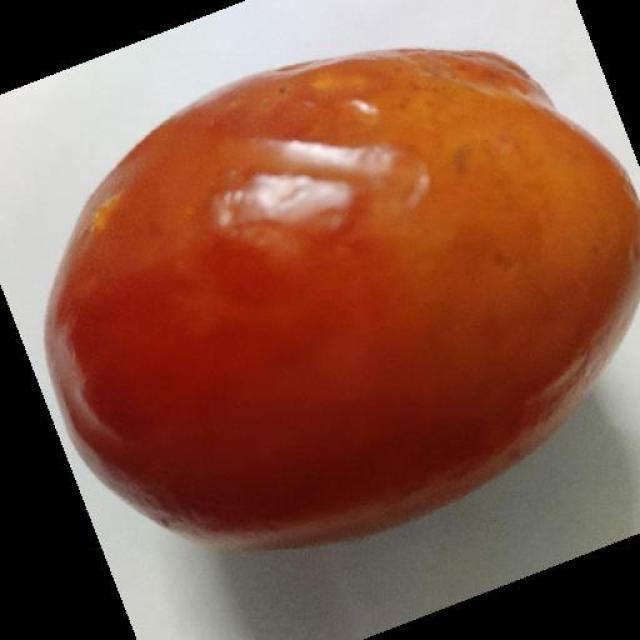Stale_tomato: (14, 71, 633, 508)
